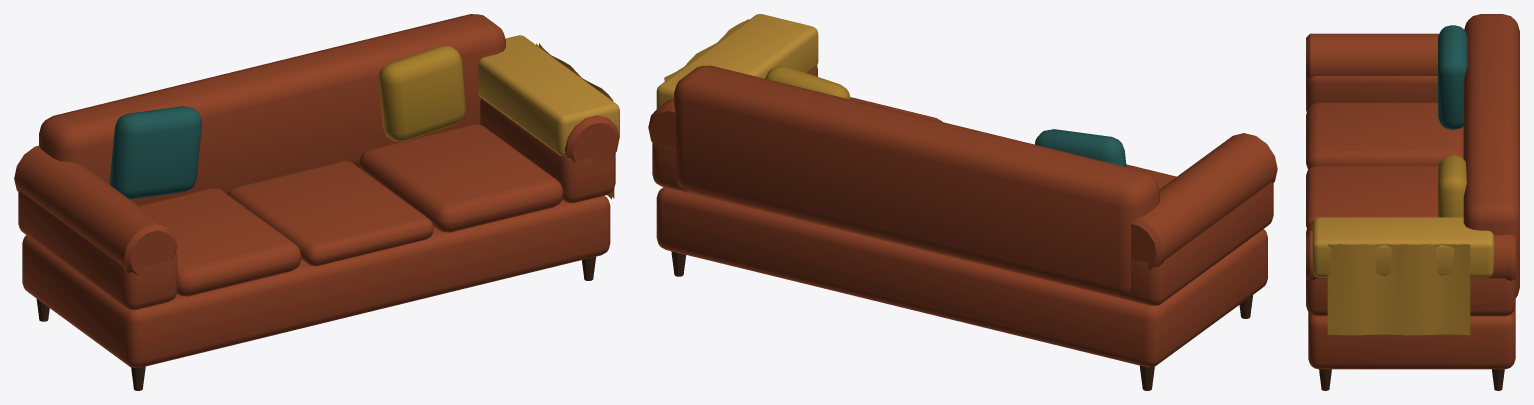
Rendered from mae_sofa_big.glb.
3 renders of one model, left to right at view 1: azimuth 30°, elevation 25°; view 2: azimuth 150°, elevation 25°; view 3: azimuth 270°, elevation 25°, orthographic. The views are drawn at different scales.
Parts seen in each view (by area): view 1: mae_sofa_big; view 2: mae_sofa_big; view 3: mae_sofa_big.
Part boxes in pixels (x1,y1,x2,y2): mae_sofa_big: (14,14,619,390); mae_sofa_big: (648,14,1277,390); mae_sofa_big: (1306,14,1519,390).
Bounding box in the file's own units: 2.46 × 0.9679 × 0.99.
